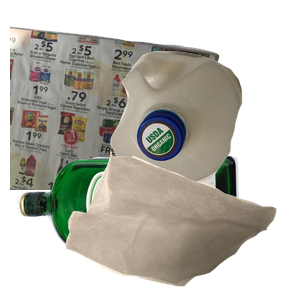glass: (14, 150, 247, 300)
paper: (10, 21, 222, 201)
plastic: (108, 49, 300, 226)
trash: (63, 149, 300, 300)
